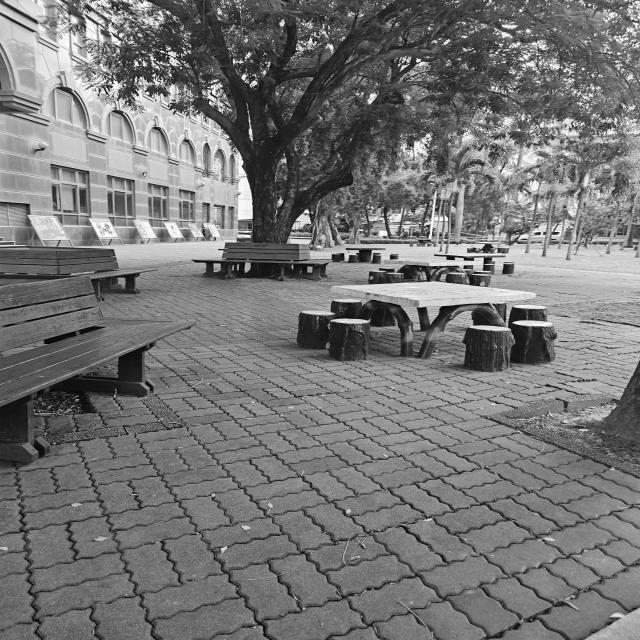Road-Object: (0, 263, 640, 640), (493, 265, 640, 305)
